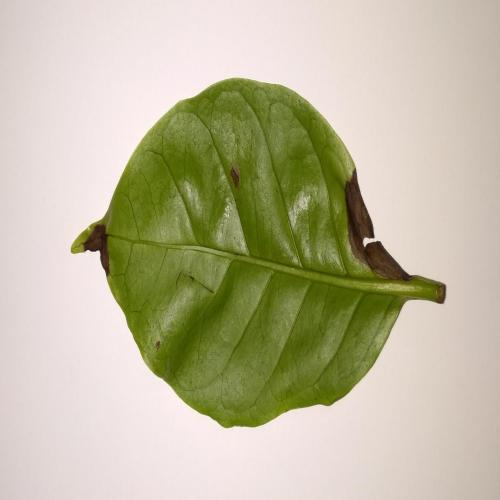miner: (344, 164, 417, 282)
